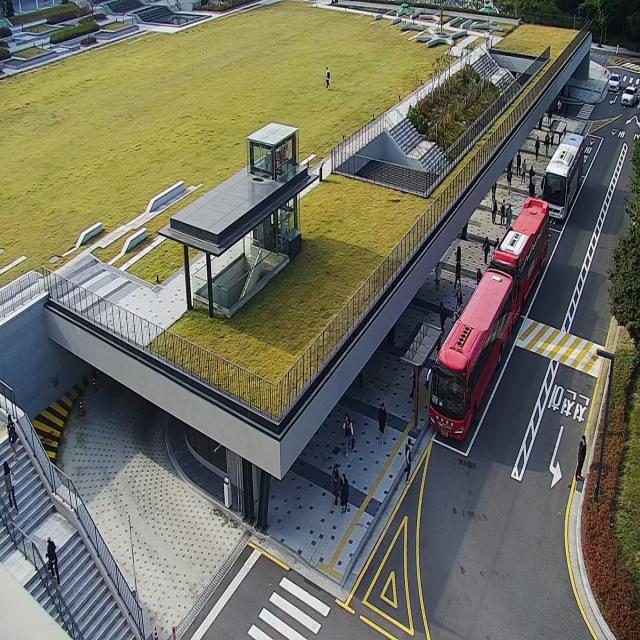queue: (415, 329, 443, 433)
